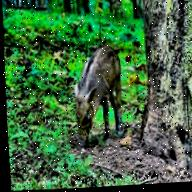boar: (52, 34, 136, 153)
